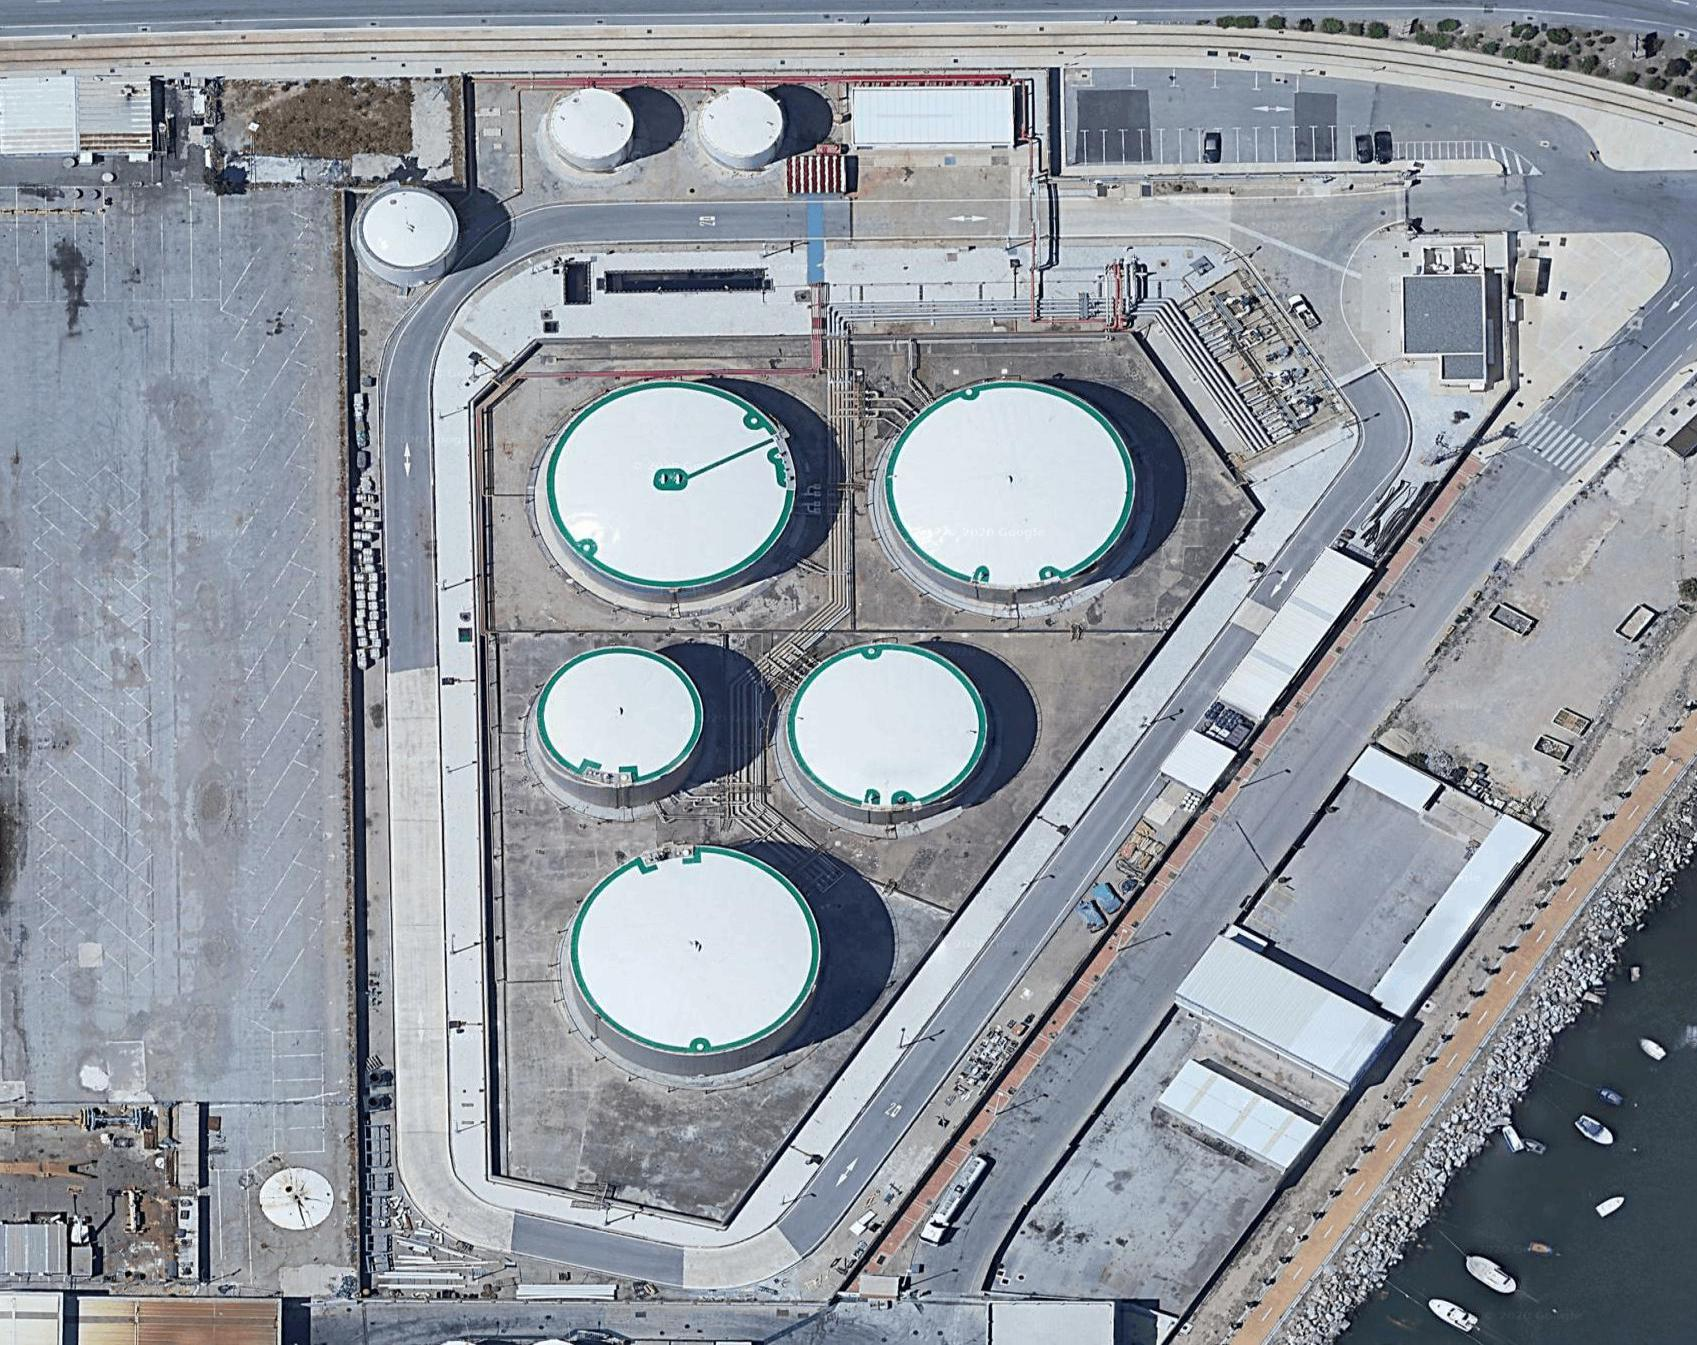ship: (1459, 1249, 1521, 1304), (1424, 1288, 1485, 1339)
storage-tank: (534, 367, 803, 598), (877, 373, 1150, 598), (563, 836, 822, 1068), (781, 634, 1000, 821), (530, 645, 709, 792), (355, 182, 461, 277), (539, 80, 645, 175), (689, 79, 795, 174), (247, 1142, 340, 1249)
